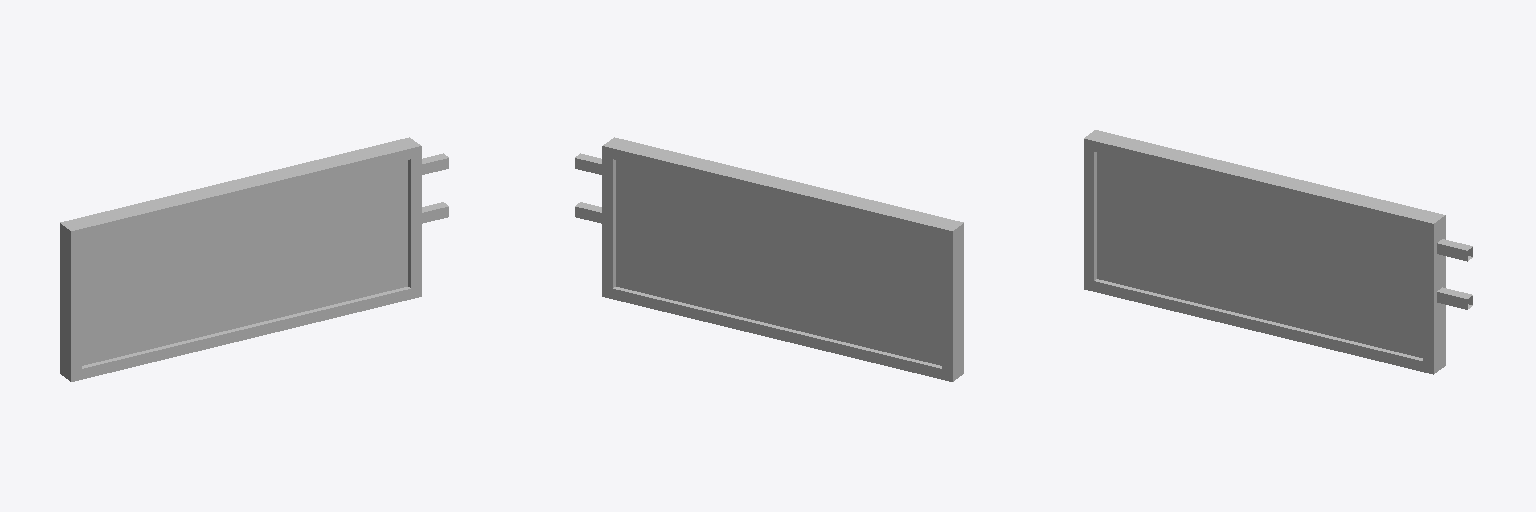
3 renders of one model, left to right at view 1: azimuth 30°, elevation 25°; view 2: azimuth 150°, elevation 25°; view 3: azimuth 330°, elevation 25°, orthographic.
Parts seen in each view (by area): view 1: objRegroup02; view 2: objRegroup02; view 3: objRegroup02.
Part boxes in pixels (x1,y1,x2,y2): objRegroup02: (60,137,448,381); objRegroup02: (575,137,963,381); objRegroup02: (1084,130,1472,374).
Bounding box in the file's own units: 18.5 × 7 × 1.